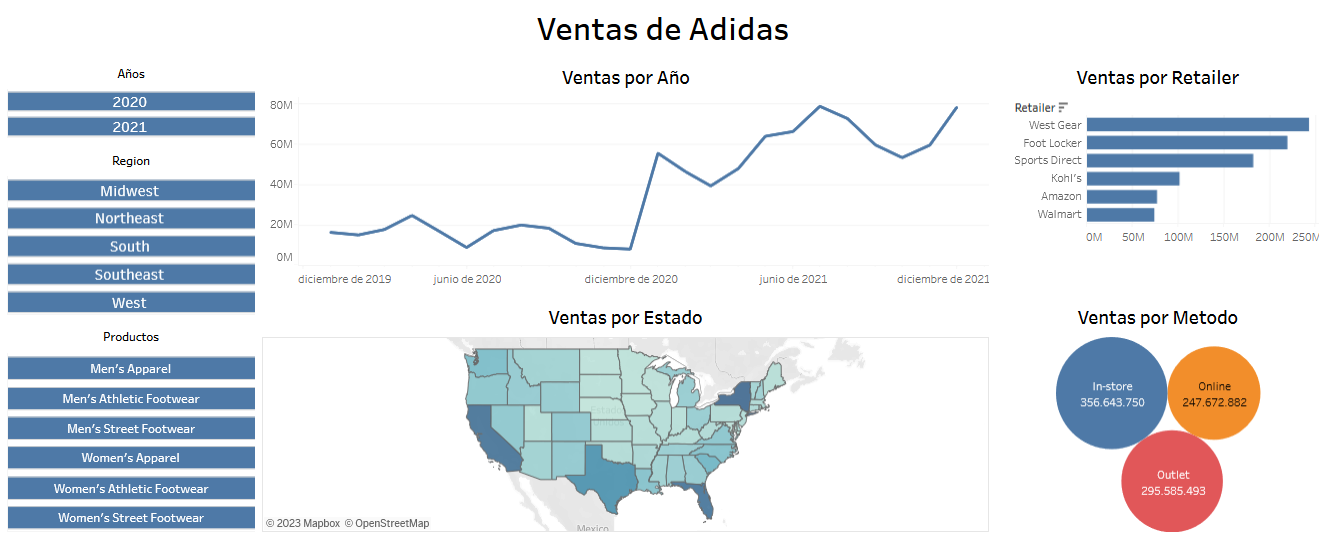

Layout of this report page (visuals, bound fields, positions):
{"tool":"powerbi","page":{"name":"Página 1","canvas":[1280,720],"ordinal":0},"visuals":[{"type":"lineChart","fields":{"Y":["Sum(Data.Total Sales)"],"Category":["Data.Invoice Date.Variación.Jerarquía de fechas.Año","Data.Invoice Date.Variación.Jerarquía de fechas.Mes"]},"box":[189.1,69,690.3,291.1],"z":0},{"type":"treemap","fields":{"Group":["Data.State"],"Values":["Sum(Data.Total Sales)"]},"box":[189.1,391.7,690.3,327.1],"z":1000},{"type":"donutChart","fields":{"Category":["Data.Sales Method"],"Y":["Sum(Data.Total Sales)"]},"box":[879.3,391.7,400.7,327.1],"z":2000},{"type":"barChart","fields":{"Y":["Sum(Data.Total Sales)"],"Category":["Data.Retailer"]},"box":[879.3,69,400.7,291.1],"z":3000},{"type":"slicer","fields":{"Values":["Data.Invoice Date.Variación.Jerarquía de fechas.Año"]},"box":[0,69,189.1,93],"z":4000},{"type":"textbox","box":[0,0,1280,69],"z":5000},{"type":"slicer","fields":{"Values":["Data.Region"]},"box":[0,162.1,189.1,180.1],"z":5001},{"type":"slicer","fields":{"Values":["Data.Product"]},"box":[0,342.1,189.1,213.1],"z":5002}]}

Visuals, with their boxes on the page's 1280x720 design canvas (x1, y1, x2, y2). These are canvas units, not pixel positions in the 1326x542 screenshot, which may show the page scaled, cropped or inside an application window:
lineChart - Sum(Data.Total Sales) x Data.Invoice Date.Variación.Jerarquía de fechas.Año: detection(189, 69, 879, 360)
treemap - Data.State x Sum(Data.Total Sales): detection(189, 392, 879, 719)
donutChart - Data.Sales Method x Sum(Data.Total Sales): detection(879, 392, 1280, 719)
barChart - Sum(Data.Total Sales) x Data.Retailer: detection(879, 69, 1280, 360)
slicer - Data.Invoice Date.Variación.Jerarquía de fechas.Año: detection(0, 69, 189, 162)
textbox: detection(0, 0, 1280, 69)
slicer - Data.Region: detection(0, 162, 189, 342)
slicer - Data.Product: detection(0, 342, 189, 555)
